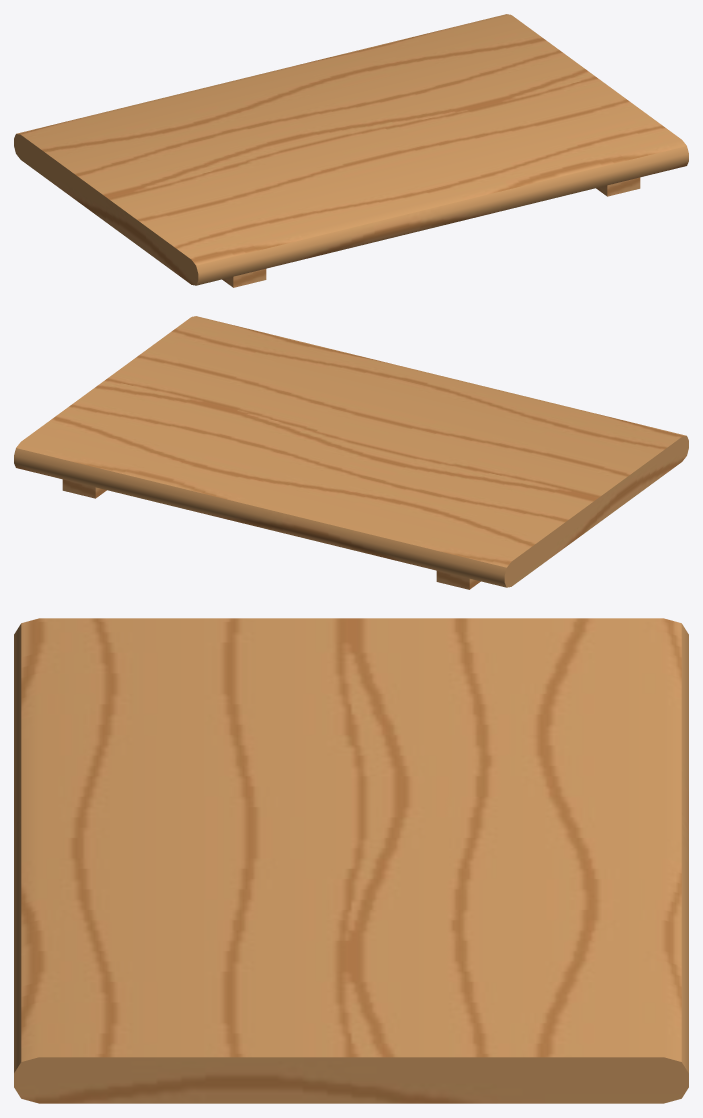
File: board_a.glb
3 views of the same model, one above another, from view 1: azimuth 30°, elevation 25°; view 2: azimuth 150°, elevation 25°; view 3: azimuth 270°, elevation 25° (orthographic). The views are drawn at different scales.
Parts seen in each view (by area): view 1: body; view 2: body; view 3: body.
Part boxes in pixels (box(x1,y1,x2,y2)): body: box(14, 14, 688, 287); body: box(14, 316, 688, 589); body: box(14, 618, 688, 1103).
Bounding box in the file's own units: 0.4 × 0.03 × 0.26.
1 material, 1 textured.
